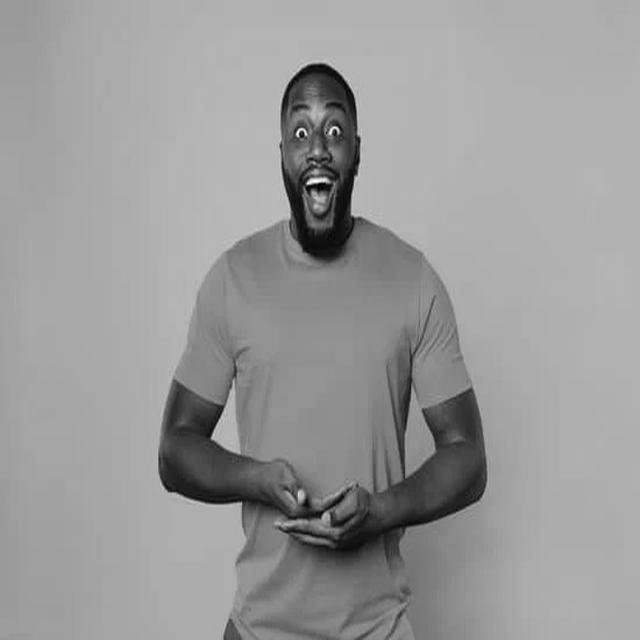Surprised: (281, 73, 357, 256)
